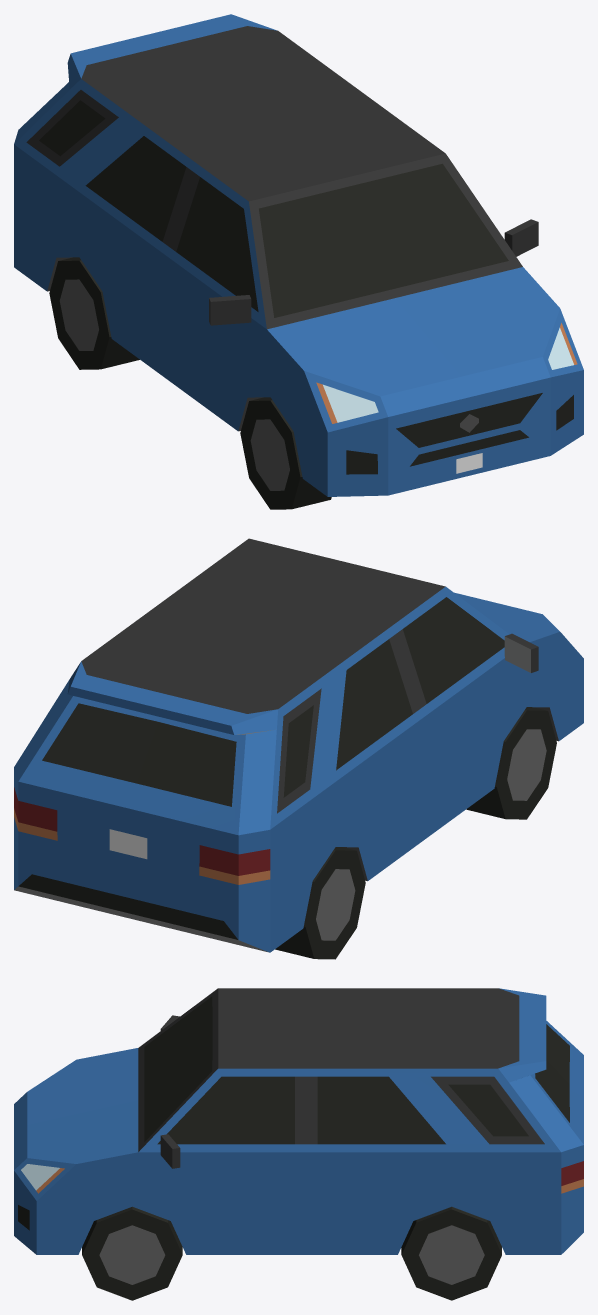
File: Veh_SUV_01_Blue.glb
3 views of the same model, one above another, from view 1: azimuth 30°, elevation 25°; view 2: azimuth 150°, elevation 25°; view 3: azimuth 270°, elevation 25° (orthographic). The views are drawn at different scales.
Parts seen in each view (by area): view 1: SUV_01_Blue, Wheel_FR, Wheel_RR; view 2: SUV_01_Blue, Wheel_FR, Wheel_RR; view 3: SUV_01_Blue, Wheel_FL, Wheel_RL.
Part boxes in pixels (<box>): SUV_01_Blue: <box>14,14,583,496</box>; Wheel_FR: <box>240,397,331,509</box>; Wheel_RR: <box>49,257,139,369</box>; SUV_01_Blue: <box>14,538,583,952</box>; Wheel_FR: <box>466,707,556,819</box>; Wheel_RR: <box>275,847,365,959</box>; SUV_01_Blue: <box>14,988,583,1254</box>; Wheel_FL: <box>82,1206,182,1300</box>; Wheel_RL: <box>401,1206,501,1300</box>.
Size of the model in its own units: 1.33 by 1.02 by 2.4.
Materials: 1 (1 with a texture image).
